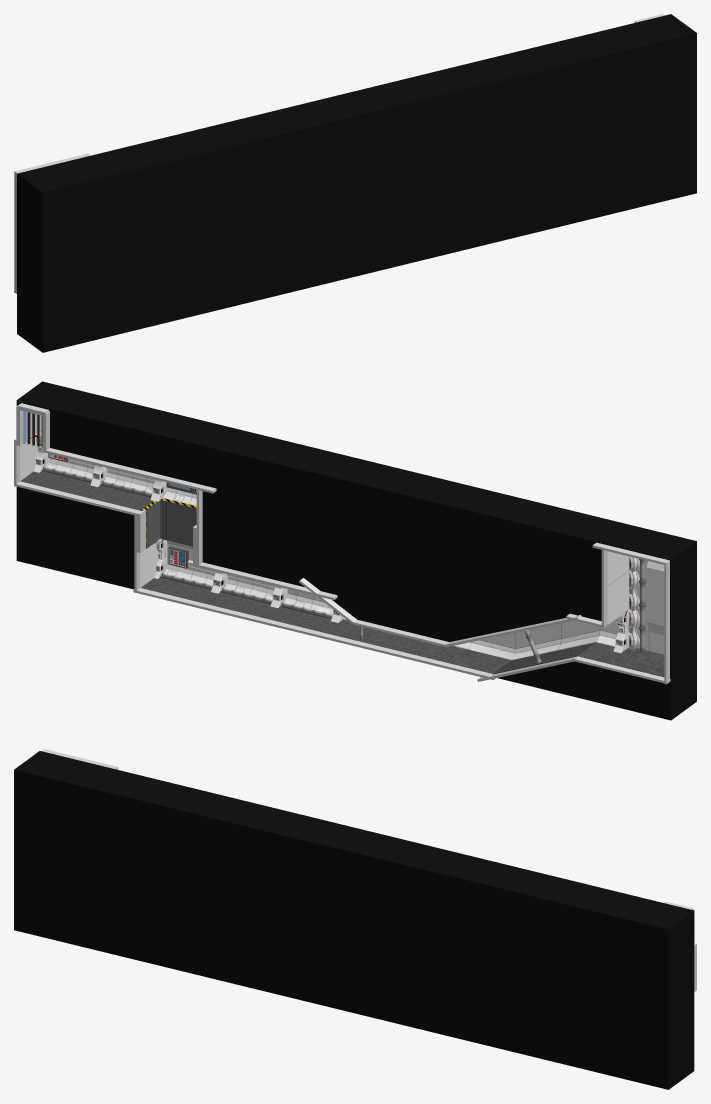
The model's file is Map_Level_1_Revised_Textured.FBX.
3 renders of one model, top to bottom at view 1: azimuth 30°, elevation 25°; view 2: azimuth 150°, elevation 25°; view 3: azimuth 330°, elevation 25°, orthographic.
Visible parts, largest first — view 1: Box003; view 2: Box003, Object009, Diagonal Corridor, Plane100, Plane018, Box004, Plane071, Plane072, Plane102, Plane066, Halved Corridor, Box006 (+12 smaller); view 3: Box003.
Boxes of the visible parts, x1=… form: Box003: x1=17, y1=14, x2=696, y2=352; Box003: x1=16, y1=381, x2=696, y2=720; Object009: x1=607, y1=551, x2=664, y2=676; Diagonal Corridor: x1=450, y1=620, x2=600, y2=673; Plane100: x1=140, y1=540, x2=215, y2=602; Plane018: x1=140, y1=482, x2=196, y2=548; Box004: x1=133, y1=588, x2=496, y2=680; Plane071: x1=20, y1=431, x2=94, y2=495; Plane072: x1=81, y1=468, x2=154, y2=510; Plane102: x1=201, y1=574, x2=274, y2=617; Plane066: x1=261, y1=589, x2=333, y2=631; Halved Corridor: x1=357, y1=629, x2=471, y2=663; Box006: x1=43, y1=448, x2=216, y2=493; Box003: x1=14, y1=751, x2=694, y2=1089.
Size of the model in its own units: 1455 by 351 by 114.
